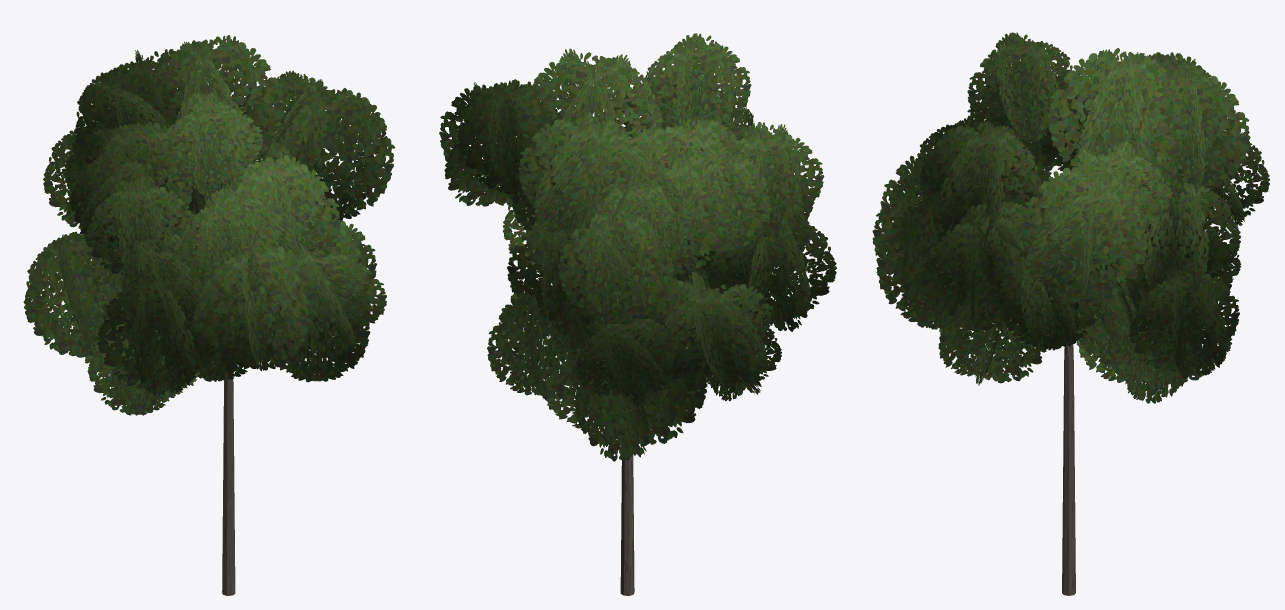
The model's file is tree_linden_lifted_lod1.glb.
3 views of the same model, side by side, from view 1: azimuth 30°, elevation 25°; view 2: azimuth 150°, elevation 25°; view 3: azimuth 270°, elevation 25° (orthographic). The views are drawn at different scales.
Parts seen in each view (by area): view 1: tree_linden_lifted_crown, tree_linden_lifted_trunk-col; view 2: tree_linden_lifted_crown, tree_linden_lifted_trunk-col; view 3: tree_linden_lifted_crown, tree_linden_lifted_trunk-col.
Boxes of the visible parts, left/top/right/bottom form: tree_linden_lifted_crown: left=23, top=35, right=394, bottom=415; tree_linden_lifted_trunk-col: left=222, top=376, right=235, bottom=595; tree_linden_lifted_crown: left=439, top=33, right=836, bottom=461; tree_linden_lifted_trunk-col: left=620, top=435, right=634, bottom=595; tree_linden_lifted_crown: left=872, top=32, right=1269, bottom=403; tree_linden_lifted_trunk-col: left=1062, top=339, right=1075, bottom=595.
Bounding box in the file's own units: 9.5 × 14.14 × 9.5.
Materials: 2 (2 with a texture image).
